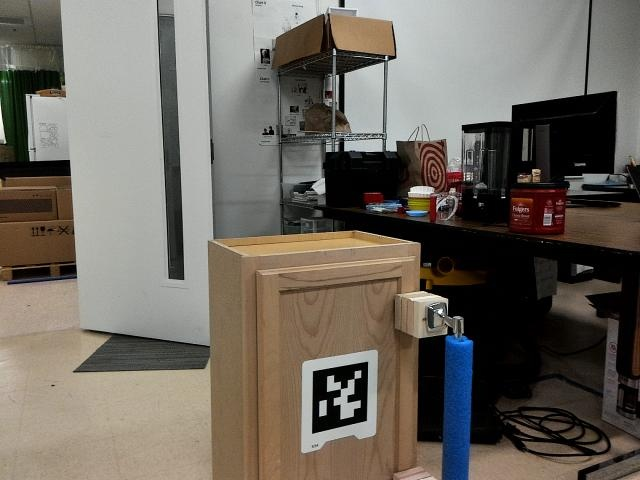noodle_handle: (436, 320, 480, 480)
